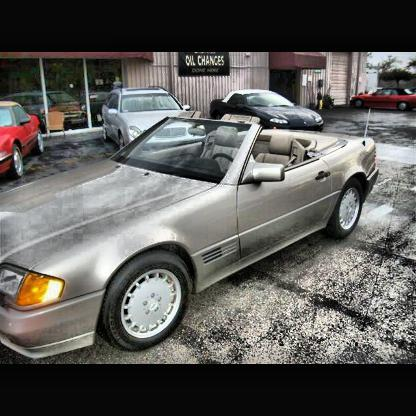Mercedes-Benz 300-Class Convertible 1993: (2, 109, 381, 361)
